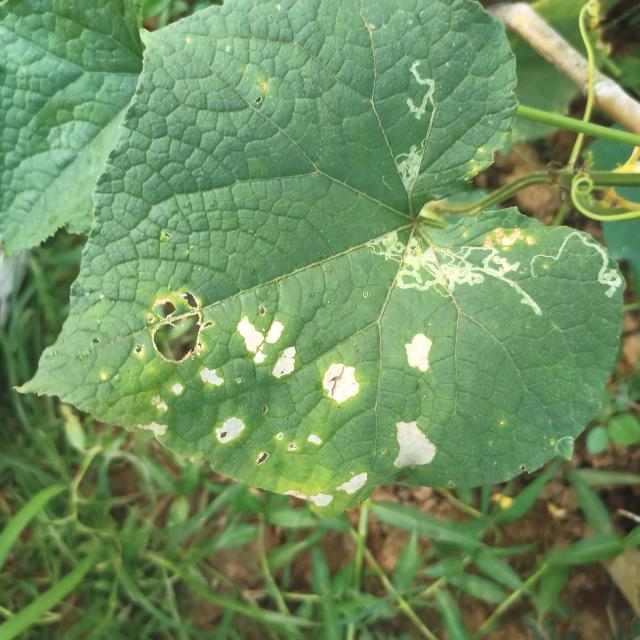disease_cucumber: (96, 279, 368, 511), (384, 323, 441, 479)
